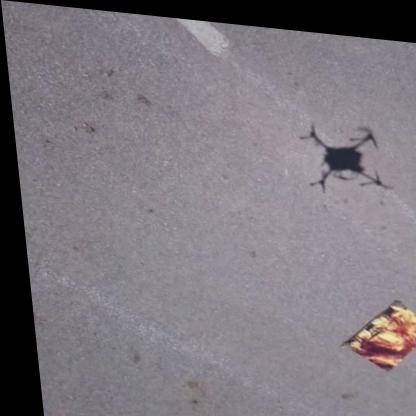fire-poster: (327, 285, 416, 368)
